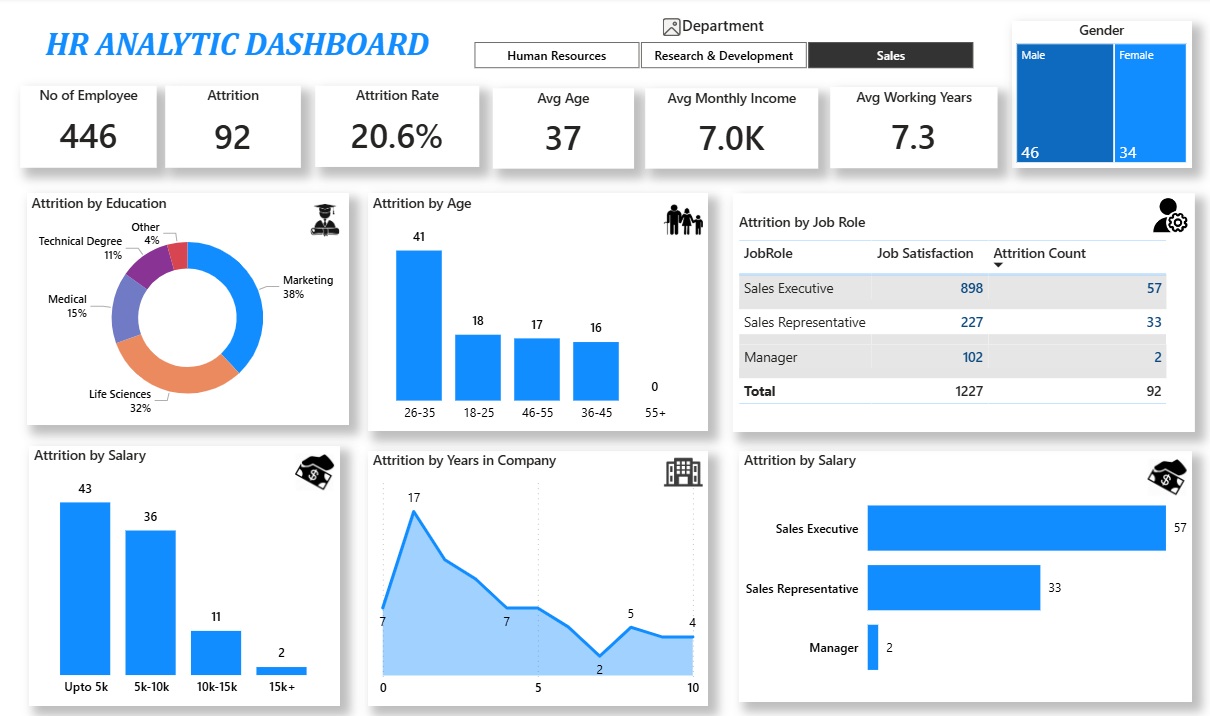

Layout of this report page (visuals, bound fields, positions):
{"tool":"powerbi","page":{"name":"Page 1","canvas":[1220,725],"ordinal":0},"visuals":[{"type":"card","title":"No of Employee","fields":{"Values":["CountNonNull(HR_Analytics.EmpID)"]},"box":[30.4,87.6,134.2,80.8],"z":0},{"type":"card","title":"Attrition","fields":{"Values":["Sum(HR_Analytics.AttritionCount)"]},"box":[174,87.5,133.5,81.2],"z":1000},{"type":"card","title":"Attrition Rate","fields":{"Values":["HR_Analytics.AttritionRate"]},"box":[321,87.5,161.4,80.3],"z":2000},{"type":"card","title":"Avg Age","fields":{"Values":["Avg(HR_Analytics.Age)"]},"box":[496,89.3,138.9,79.4],"z":3000},{"type":"card","title":"Avg Monthly Income","fields":{"Values":["Avg(HR_Analytics.MonthlyIncome)"]},"box":[646.5,89.3,170.4,79.4],"z":4000},{"type":"card","title":"Avg Working Years","fields":{"Values":["Avg(HR_Analytics.YearsAtCompany)"]},"box":[828.7,88.4,165,80.3],"z":5000},{"type":"donutChart","title":"Attrition by Education","fields":{"Category":["HR_Analytics.EducationField"],"Y":["Sum(HR_Analytics.AttritionCount)"]},"box":[37,193.9,317.4,228.1],"z":6000},{"type":"columnChart","title":"Attrition by Age","fields":{"Category":["HR_Analytics.AgeGroup"],"Y":["Sum(HR_Analytics.AttritionCount)"]},"box":[373.3,193.9,335.4,234.5],"z":7000},{"type":"pivotTable","title":"Attrition by Job Role","fields":{"Rows":["HR_Analytics.JobRole"],"Values":["Sum(HR_Analytics.JobSatisfaction)","Sum(HR_Analytics.AttritionCount)"]},"box":[733,193,455,235.1],"z":8000},{"type":"columnChart","title":"Attrition by Salary","fields":{"Category":["HR_Analytics.SalarySlab"],"Y":["Sum(HR_Analytics.AttritionCount)"]},"box":[39.7,441.9,306.6,256.1],"z":9000},{"type":"clusteredBarChart","title":"Attrition by Salary","fields":{"Y":["Sum(HR_Analytics.AttritionCount)"],"Category":["HR_Analytics.JobRole"]},"box":[738.5,446.4,446.4,247.1],"z":10000},{"type":"areaChart","title":"Attrition by Years in Company","fields":{"Category":["HR_Analytics.YearsAtCompany"],"Y":["Sum(HR_Analytics.AttritionCount)"]},"box":[373.3,446.4,335.4,251.6],"z":11000},{"type":"treemap","title":"Gender","fields":{"Group":["HR_Analytics.Gender"],"Values":["Sum(HR_Analytics.AttritionCount)"]},"box":[1007.2,23.4,177.6,145.2],"z":12000},{"type":"slicer","title":"Department","fields":{"Values":["HR_Analytics.Department"]},"box":[451.8,17.1,541.9,58.6],"z":13000},{"type":"textbox","box":[30.7,22.5,427.4,53.2],"z":14000},{"type":"image","box":[659.2,16.2,28,27.1],"z":15000},{"type":"image","box":[306.6,193.3,48,51.7],"z":16000},{"type":"image","box":[660,193.3,48,51.7],"z":17000},{"type":"image","box":[296.7,442,48,51.7],"z":18000},{"type":"image","box":[660,442,48,51.7],"z":19000},{"type":"image","box":[1136.5,447,48,51.7],"z":20000},{"type":"image","box":[1139,193.3,49.3,43.1],"z":20001}]}

Visuals, with their boxes in screenshot pixels (x1, y1, x2, y2), scaled from the page's 1220x725 canvas onto the 1210x716 screenshot:
"No of Employee" card: bbox(30, 87, 163, 166)
"Attrition" card: bbox(173, 86, 305, 167)
"Attrition Rate" card: bbox(318, 86, 478, 166)
"Avg Age" card: bbox(492, 88, 630, 167)
"Avg Monthly Income" card: bbox(641, 88, 810, 167)
"Avg Working Years" card: bbox(822, 87, 986, 167)
"Attrition by Education" donutChart: bbox(37, 191, 351, 417)
"Attrition by Age" columnChart: bbox(370, 191, 703, 423)
"Attrition by Job Role" pivotTable: bbox(727, 191, 1178, 423)
"Attrition by Salary" columnChart: bbox(39, 436, 343, 689)
"Attrition by Salary" clusteredBarChart: bbox(732, 441, 1175, 685)
"Attrition by Years in Company" areaChart: bbox(370, 441, 703, 689)
"Gender" treemap: bbox(999, 23, 1175, 167)
"Department" slicer: bbox(448, 17, 986, 75)
textbox: bbox(30, 22, 454, 75)
image: bbox(654, 16, 682, 43)
image: bbox(304, 191, 352, 242)
image: bbox(655, 191, 702, 242)
image: bbox(294, 437, 342, 488)
image: bbox(655, 437, 702, 488)
image: bbox(1127, 441, 1175, 493)
image: bbox(1130, 191, 1179, 233)
